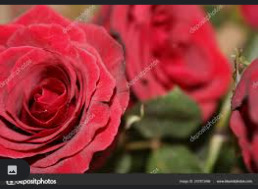RedRose: (0, 6, 132, 172)
